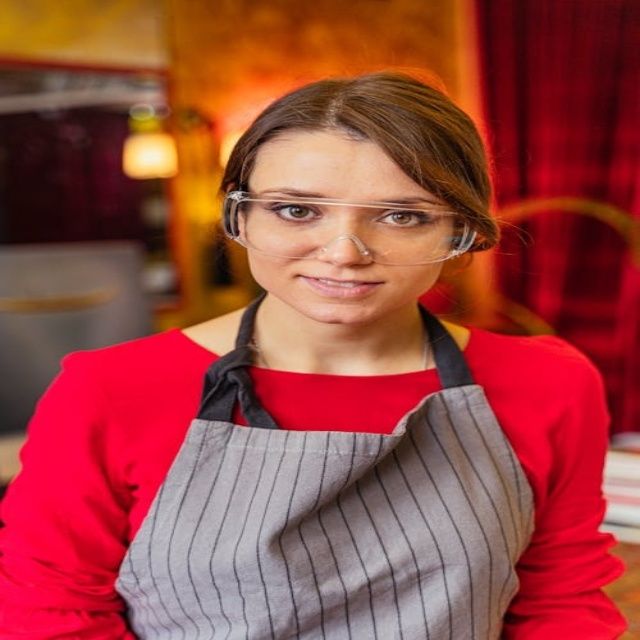Gafas: (223, 191, 484, 265)
Sin_mascara: (288, 266, 390, 322)
